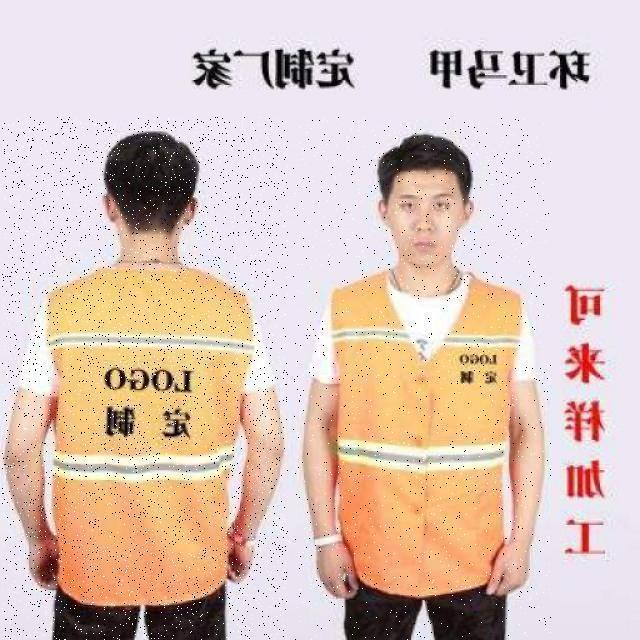person: (2, 117, 288, 640), (293, 117, 551, 640)
vest: (40, 258, 256, 612), (328, 274, 520, 594)
